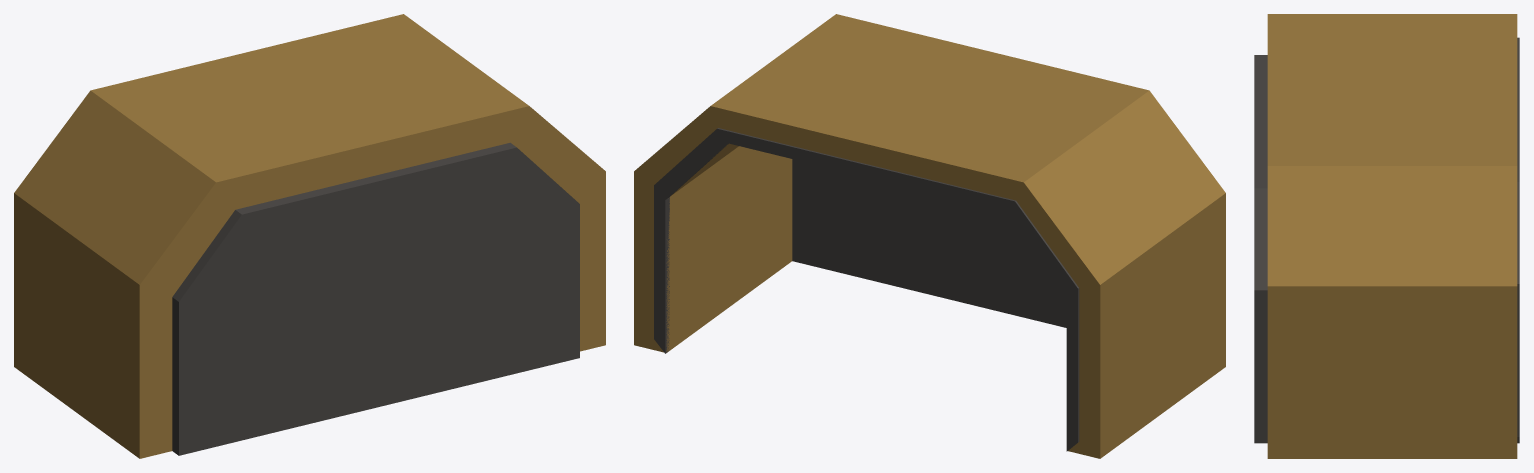
File: fender.glb
3 renders of one model, left to right at view 1: azimuth 30°, elevation 25°; view 2: azimuth 150°, elevation 25°; view 3: azimuth 270°, elevation 25°, orthographic.
Visible parts, largest first — view 1: fender; view 2: fender; view 3: fender.
Boxes of the visible parts, x1,y1,x2,y2 form: fender: (14, 14, 605, 458); fender: (634, 14, 1225, 458); fender: (1254, 14, 1519, 458).
Size of the model in its own units: 2.44 by 1.29 by 1.21.
